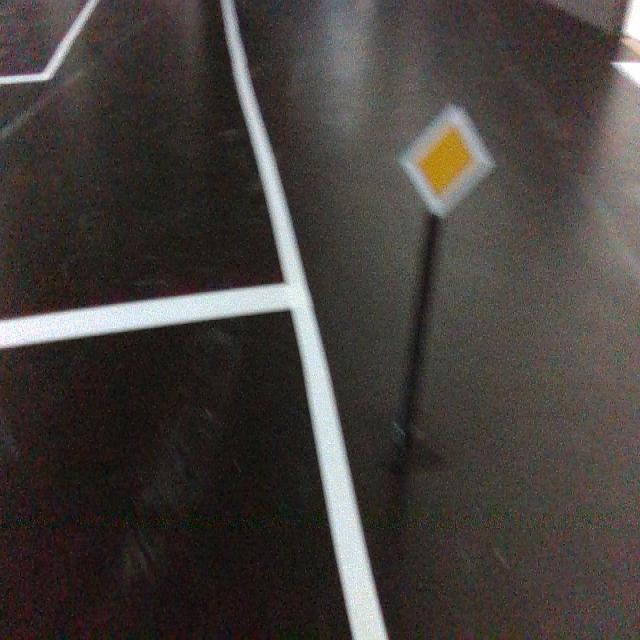priority-sign: (396, 102, 496, 220)
